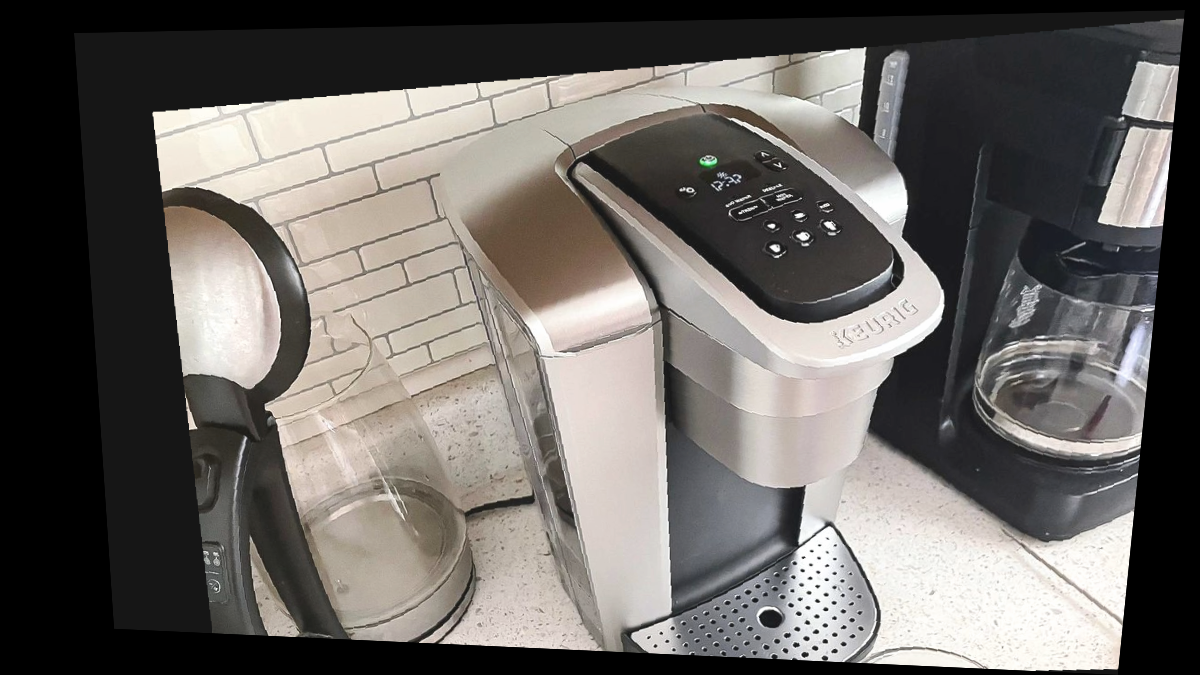10oz: (785, 222, 820, 256)
12oz: (813, 213, 848, 246)
4oz: (758, 213, 786, 237)
6oz: (784, 203, 812, 228)
8oz: (757, 232, 792, 266)
add_water: (717, 183, 756, 212)
coffee_handle: (850, 304, 955, 383)
descale: (754, 168, 793, 197)
hot: (764, 183, 803, 212)
iced: (811, 192, 839, 219)
platform: (748, 596, 792, 639)
power: (693, 149, 721, 170)
strong: (727, 198, 766, 226)
water_handle: (542, 315, 661, 369)
